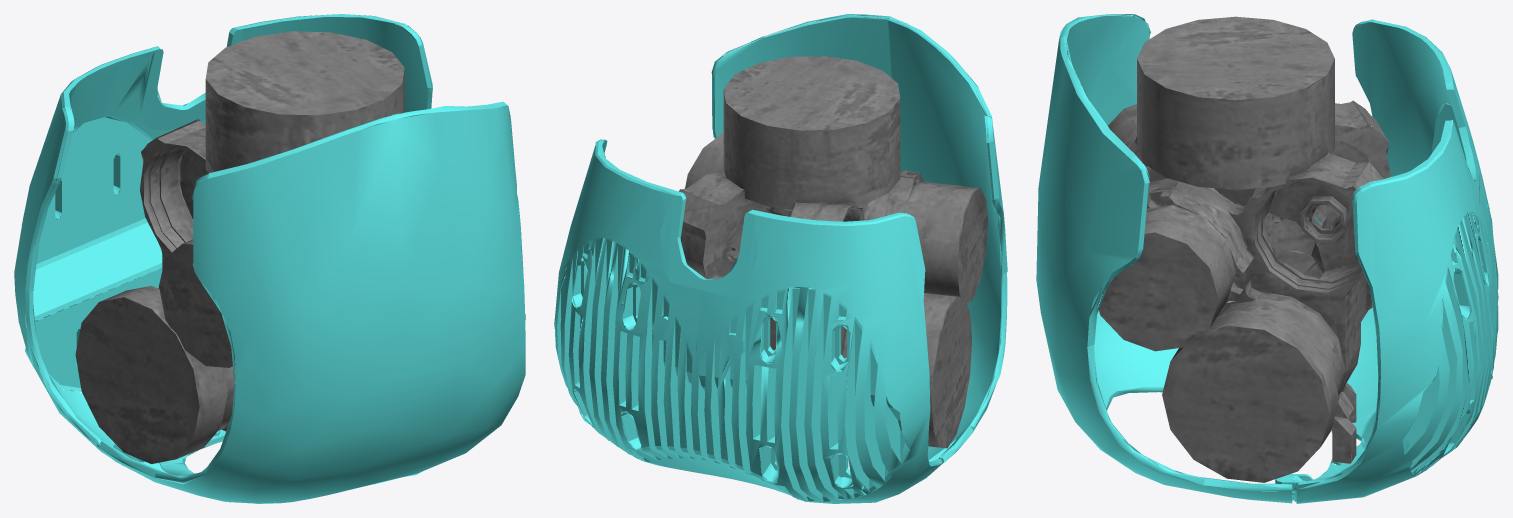
File: icub_blue_chest.dae
The picture shows the model from 3 angles, left to right: view 1: azimuth 30°, elevation 25°; view 2: azimuth 150°, elevation 25°; view 3: azimuth 270°, elevation 25°; orthographic projection. The views are drawn at different scales.
Parts seen in each view (by area): view 1: torso_mesh_001; view 2: torso_mesh_001; view 3: torso_mesh_001.
Part boxes in pixels (x1=…): torso_mesh_001: x1=14, y1=14, x2=525, y2=503; torso_mesh_001: x1=554, y1=14, x2=1007, y2=503; torso_mesh_001: x1=1036, y1=14, x2=1498, y2=503.
Size of the model in its own units: 0.19 by 0.1868 by 0.1847.
Materials: 1 (1 with a texture image).
